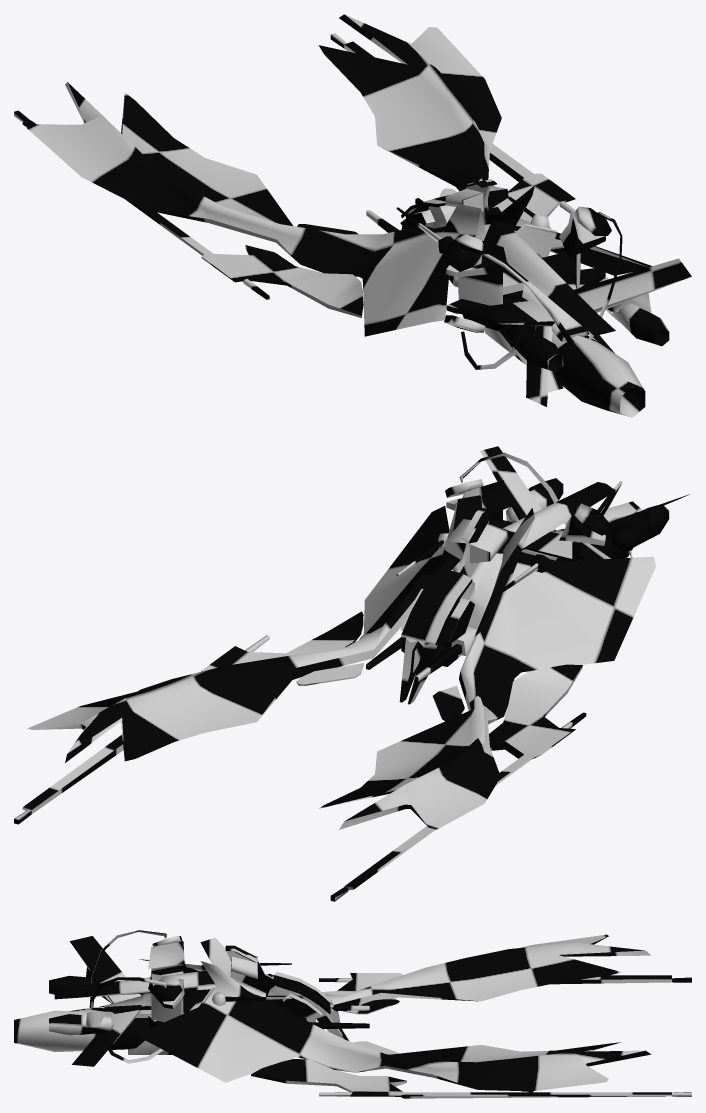
The model's file is demaner.obj.
3 views of the same model, one above another, from view 1: azimuth 30°, elevation 25°; view 2: azimuth 150°, elevation 25°; view 3: azimuth 270°, elevation 25° (orthographic). The views are drawn at different scales.
Parts seen in each view (by area): view 1: demaner; view 2: demaner; view 3: demaner.
Boxes of the visible parts, box(x1,y1,x2,y2) form: demaner: box(14, 14, 691, 417); demaner: box(14, 446, 689, 901); demaner: box(14, 930, 691, 1098).
Bounding box in the file's own units: 106 × 34.79 × 205.
1 material, 1 textured.
